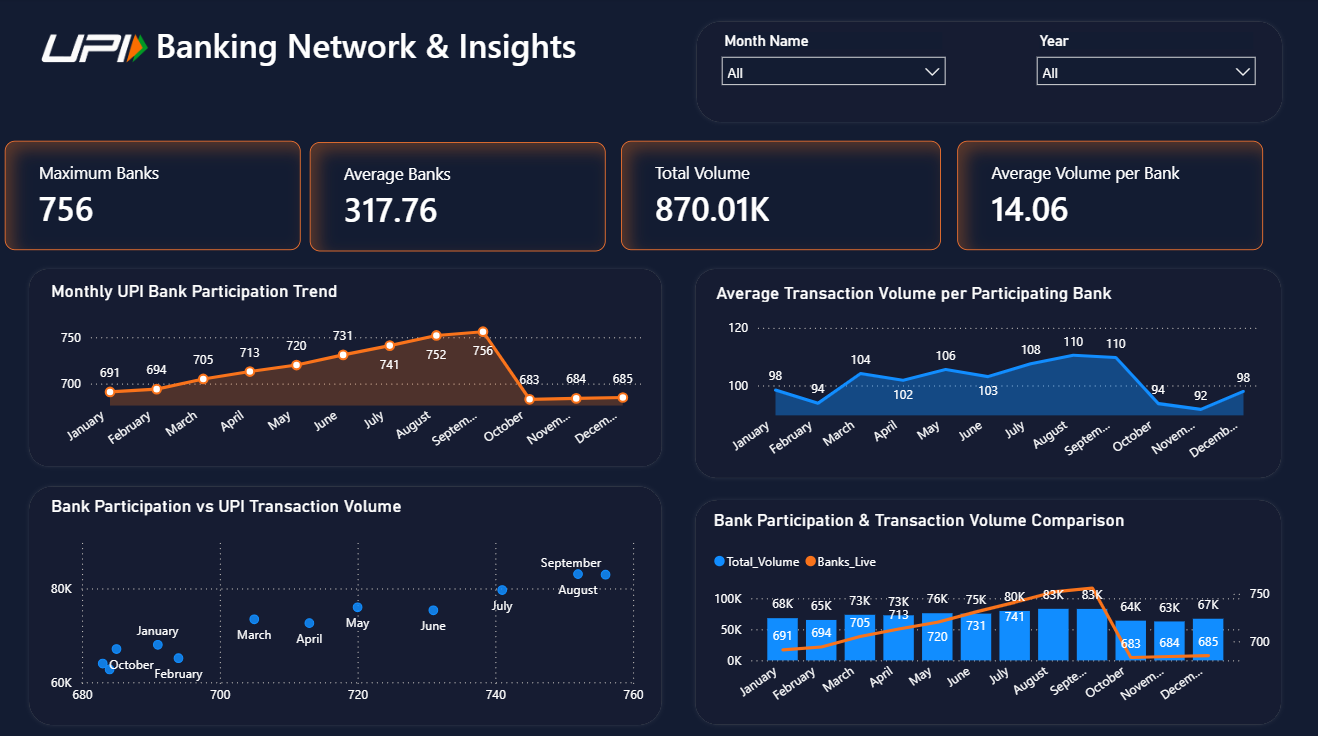

Layout of this report page (visuals, bound fields, positions):
{"tool":"powerbi","page":{"name":"Page 3","canvas":[1280,720],"ordinal":2},"visuals":[{"type":"group","id":"g1","title":"Group 1","box":[27.4,19.2,553,61.7],"z":0},{"type":"textbox","box":[27.4,19.2,553,61.7],"z":0,"group":"g1"},{"type":"group","id":"g2","title":"Group 2","box":[672.4,19.2,573.6,105.7],"z":1000},{"type":"image","box":[37.8,25.8,113.1,48],"z":1000,"group":"g1"},{"type":"cardVisual","fields":{"Data":["UPI_Statistics.Maximum_Banks"]},"box":[8.2,138.6,285.4,105.7],"z":2000},{"type":"shape","box":[672.4,19.2,573.6,105.7],"z":3000,"group":"g2"},{"type":"cardVisual","fields":{"Data":["UPI_Statistics.Avg_Participating_Banks"]},"box":[303.3,140,285.4,105.7],"z":3000},{"type":"slicer","fields":{"Values":["UPI_Statistics.Month_Name"]},"box":[691.1,29.4,236,86.4],"z":3500,"group":"g2"},{"type":"slicer","fields":{"Values":["UPI_Statistics.Year"]},"box":[994.3,29.4,231.9,86.4],"z":4000,"group":"g2"},{"type":"cardVisual","fields":{"Data":["UPI_Statistics.Total_Volume"]},"box":[603.8,138.6,308.7,105.7],"z":4000},{"type":"cardVisual","fields":{"Data":["UPI_Statistics.Average Volume per Bank"]},"box":[927.6,138.6,295,105.7],"z":5000},{"type":"group","id":"g3","title":"Group 3","box":[27.4,258,618.9,199],"z":6000},{"type":"shape","box":[27.4,258,618.9,199],"z":7000,"group":"g3"},{"type":"shape","box":[670.7,258,573.6,209.9],"z":7000,"group":"g4"},{"type":"shape","box":[27.4,467.9,618.9,238.8],"z":7000,"group":"g5"},{"type":"shape","box":[671,481.6,573.6,225],"z":7000,"group":"g6"},{"type":"lineChart","title":"Monthly UPI Bank Participation Trend","fields":{"Category":["UPI_Statistics.Month_Date.Variation.Date Hierarchy.Month"],"Y":["UPI_Statistics.Banks_Live"]},"box":[47.4,273.3,580,172.4],"z":7500,"group":"g3"},{"type":"areaChart","title":"Average Transaction Volume per Participating Bank","fields":{"Category":["UPI_Statistics.Month_Date.Variation.Date Hierarchy.Month"],"Y":["UPI_Statistics.Monthly_Volume_per_Bank"]},"box":[689.5,274.5,535.5,182.7],"z":8000,"group":"g4"},{"type":"group","id":"g4","title":"Group 4","box":[670.7,258,573.6,209.9],"z":8001},{"type":"scatterChart","title":"Bank Participation vs UPI Transaction Volume","fields":{"Category":["UPI_Statistics.Month_Date.Variation.Date Hierarchy.Month"],"Y":["UPI_Statistics.Total_Volume"],"X":["UPI_Statistics.Banks_Live"]},"box":[48.1,481.5,581.9,210.1],"z":8502,"group":"g5"},{"type":"group","id":"g5","title":"Group 5","box":[27.4,467.9,618.9,238.8],"z":8503},{"type":"lineClusteredColumnComboChart","title":"Bank Participation & Transaction Volume Comparison","fields":{"Category":["UPI_Statistics.Month_Date.Variation.Date Hierarchy.Month"],"Y":["UPI_Statistics.Total_Volume"],"Y2":["UPI_Statistics.Banks_Live"]},"box":[687.4,494.4,547.5,197.6],"z":9004,"group":"g6"},{"type":"group","id":"g6","title":"Group 6","box":[671,481.6,573.6,225],"z":9005}]}

Visuals, with their boxes in screenshot pixels (x1, y1, x2, y2), scaled from the page's 1280x720 canvas onto the 1318x736 screenshot:
"Group 1" group: locate(28, 20, 598, 83)
textbox: locate(28, 20, 598, 83)
"Group 2" group: locate(692, 20, 1283, 128)
image: locate(39, 26, 155, 75)
cardVisual - UPI_Statistics.Maximum_Banks: locate(8, 142, 302, 250)
shape: locate(692, 20, 1283, 128)
cardVisual - UPI_Statistics.Avg_Participating_Banks: locate(312, 143, 606, 251)
slicer - UPI_Statistics.Month_Name: locate(712, 30, 955, 118)
slicer - UPI_Statistics.Year: locate(1024, 30, 1263, 118)
cardVisual - UPI_Statistics.Total_Volume: locate(622, 142, 940, 250)
cardVisual - UPI_Statistics.Average Volume per Bank: locate(955, 142, 1259, 250)
"Group 3" group: locate(28, 264, 665, 467)
shape: locate(28, 264, 665, 467)
shape: locate(691, 264, 1281, 478)
shape: locate(28, 478, 665, 722)
shape: locate(691, 492, 1282, 722)
"Monthly UPI Bank Participation Trend" lineChart: locate(49, 279, 646, 456)
"Average Transaction Volume per Participating Bank" areaChart: locate(710, 281, 1261, 467)
"Group 4" group: locate(691, 264, 1281, 478)
"Bank Participation vs UPI Transaction Volume" scatterChart: locate(50, 492, 649, 707)
"Group 5" group: locate(28, 478, 665, 722)
"Bank Participation & Transaction Volume Comparison" lineClusteredColumnComboChart: locate(708, 505, 1272, 707)
"Group 6" group: locate(691, 492, 1282, 722)
